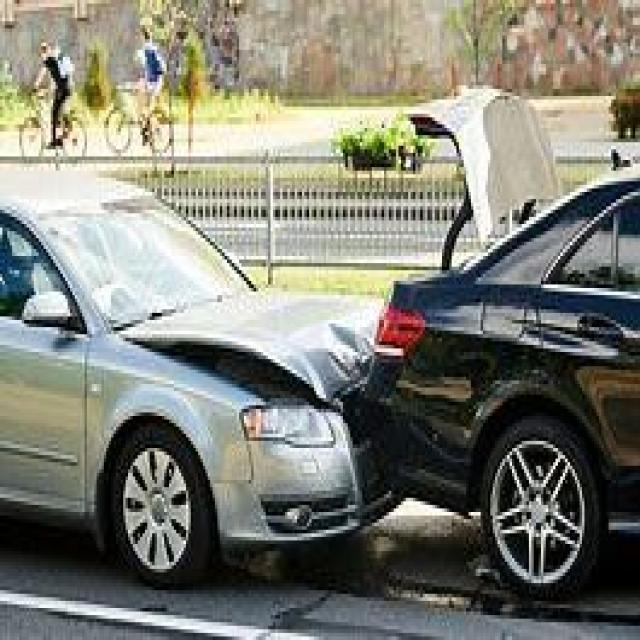Nguy hiểm: (122, 125, 557, 622)
